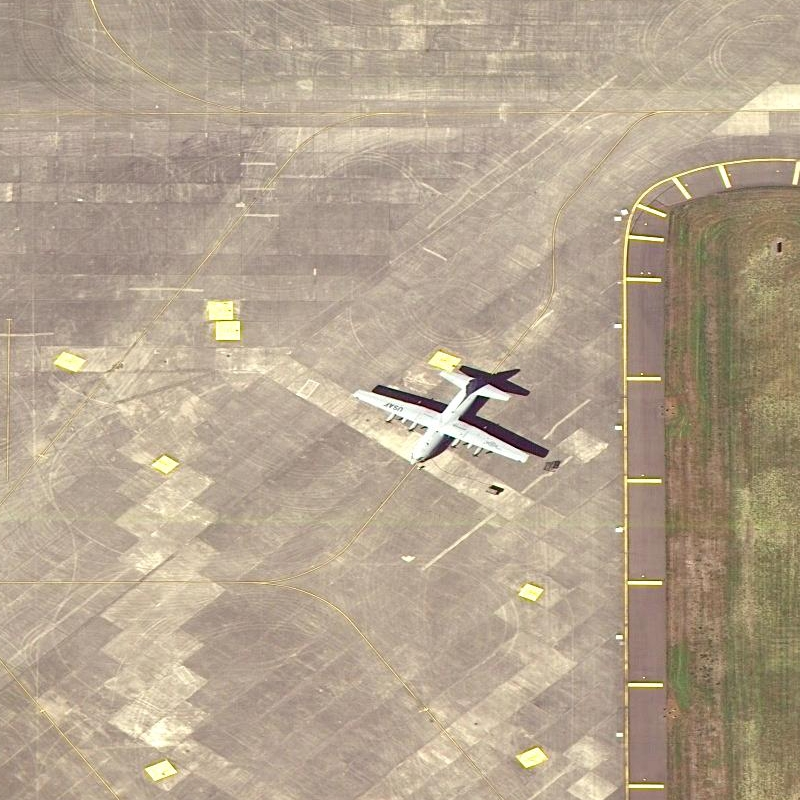A2: (341, 355, 536, 478)
